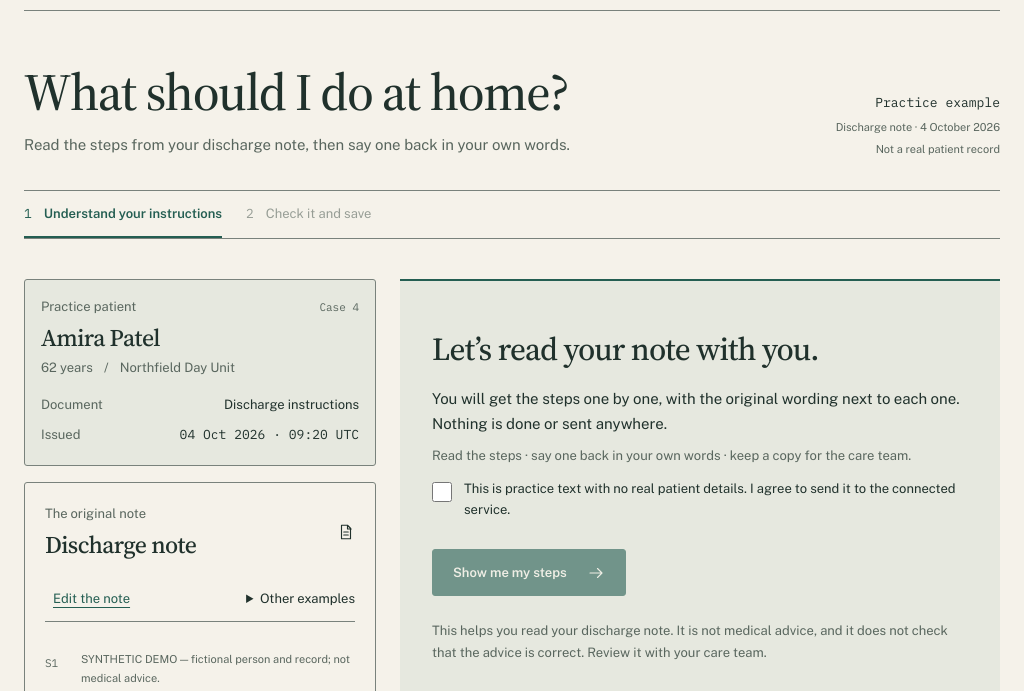
Test: Editorial patient journey › handles no steps and an empty source without fabricating a patient or assessment
This screenshot has width=1024, height=691.
Click the checkbox labelled "This is practice text" at (442, 492), box [432,482,452,502]
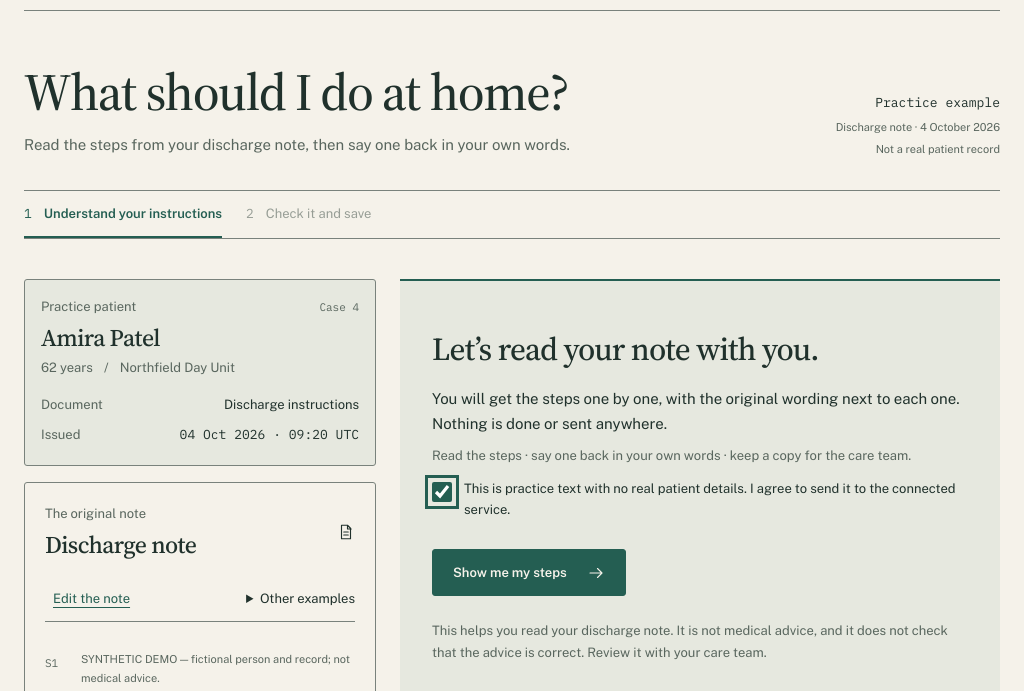
Click the button "Show me my steps" at (529, 572), box [432,549,626,596]
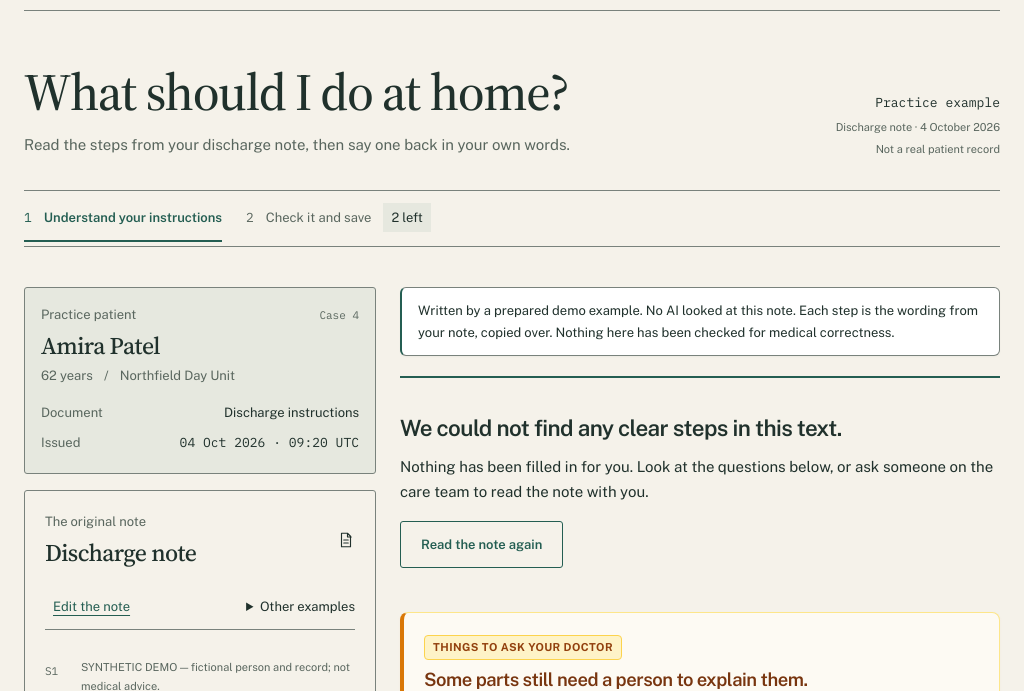
Expected: the text "Written by a prepared demo example" is shown, [400,287,1000,356]
Expected: the heading "We could not find any clear steps in this text." is shown, [400,415,842,441]
Click the button "Read the note again" at (482, 545), box [400,521,563,568]
(page scrolled)
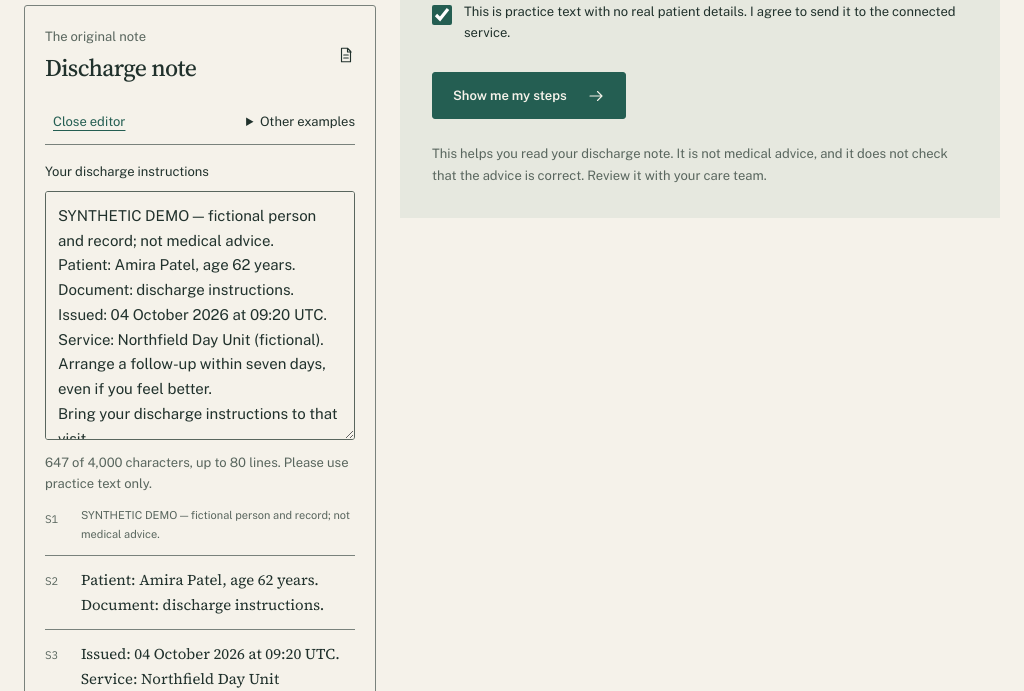
Clear the text box labelled "Your discharge instructions" at (200, 315), box [45,191,355,440]
(page scrolled)
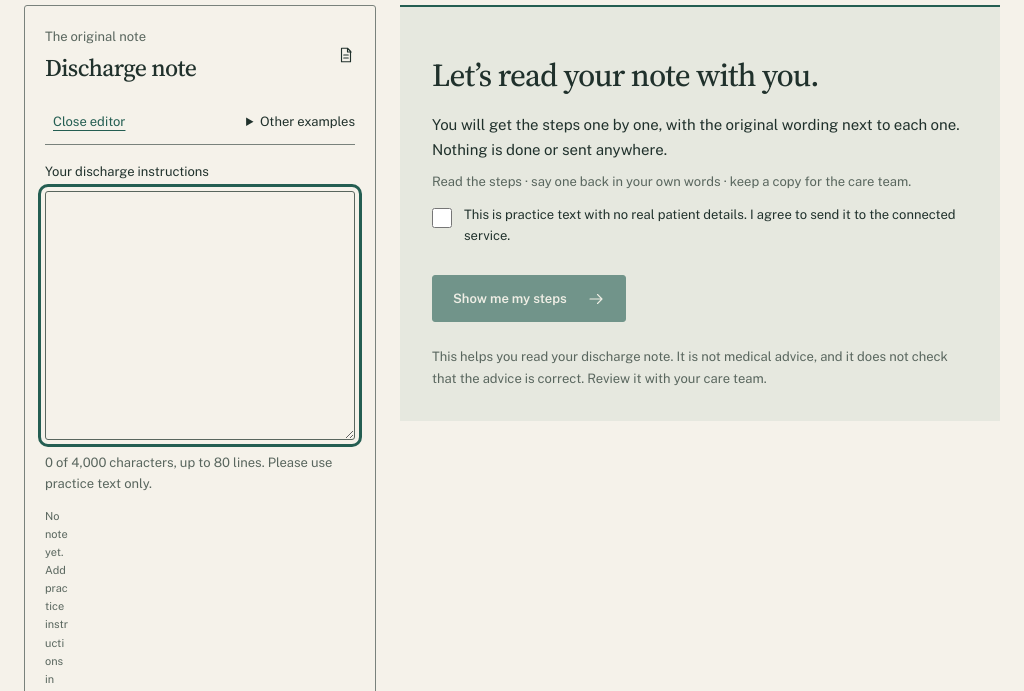
Expected: the heading "Let’s read your note with you." is shown, [432,53,819,97]
Expected: the button "Show me my steps" is disabled, [432,275,626,322]
